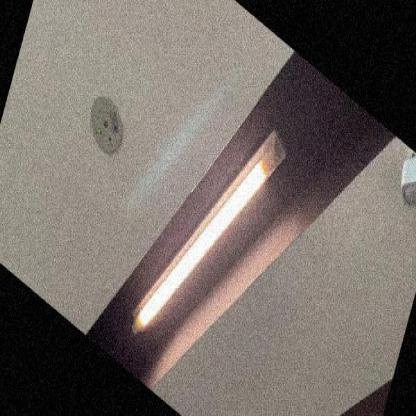light_on: (123, 52, 299, 414)
